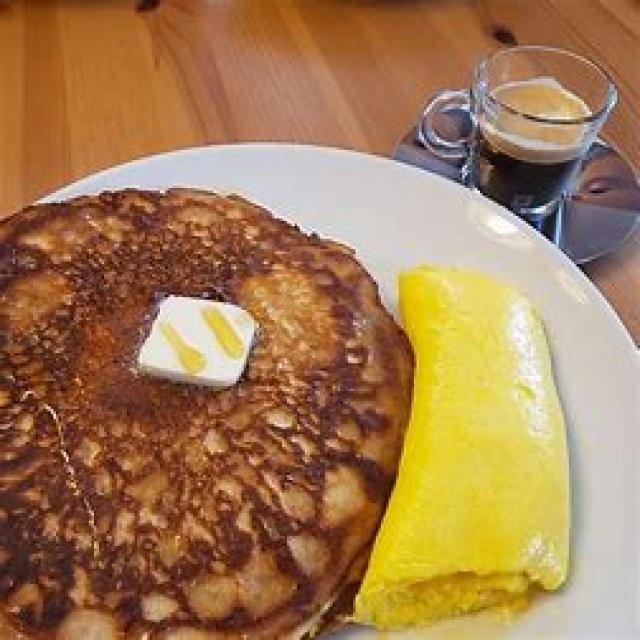Omelette: (371, 251, 574, 612)
Pancakes: (2, 175, 398, 638)
